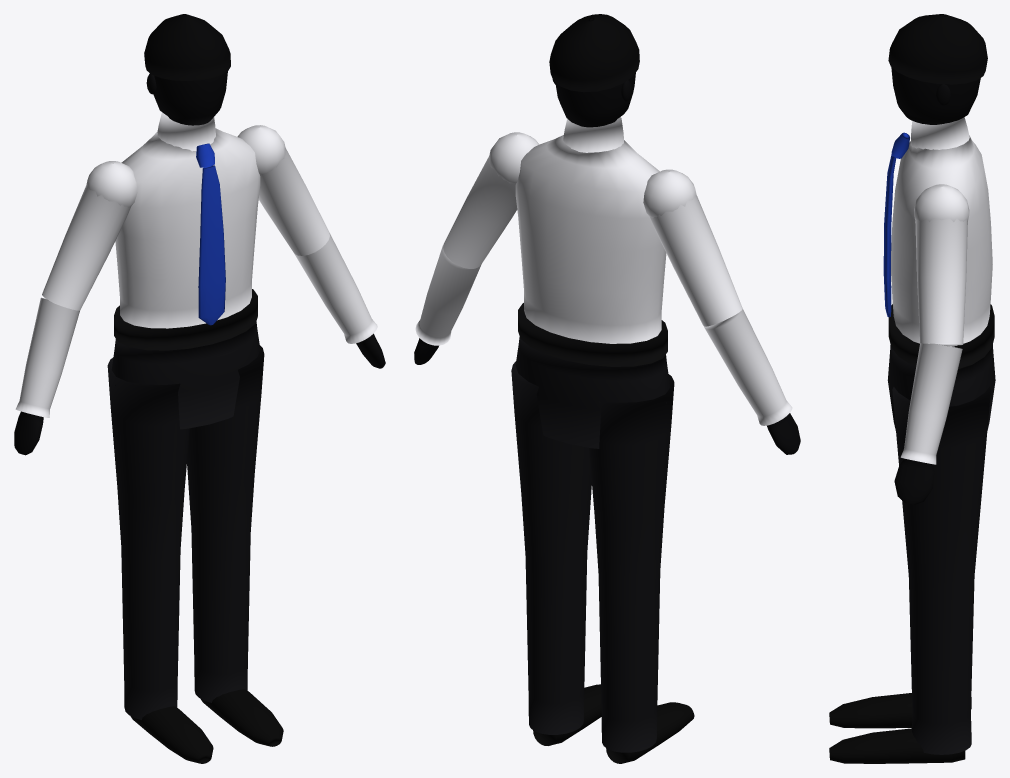
Rendered from ShadowOfficeWorker.obj.
3 renders of one model, left to right at view 1: azimuth 30°, elevation 25°; view 2: azimuth 150°, elevation 25°; view 3: azimuth 270°, elevation 25°, orthographic. The views are drawn at different scales.
Visible parts, largest first — view 1: Pants_Leg_L, Shirt_Torso, Pants_Leg_R, Shirt_Sleeve_L, Shirt_Sleeve_R, Pants_Hip, Hair, Tie, Belt, Head, Shoe_R, Shoe_L (+2 smaller); view 2: Shirt_Torso, Pants_Leg_L, Pants_Leg_R, Shirt_Sleeve_L, Shirt_Sleeve_R, Pants_Hip, Hair, Belt, Head, Collar, Shoe_L, Shoe_R (+1 smaller); view 3: Pants_Leg_R, Shirt_Sleeve_R, Shirt_Torso, Hair, Shoe_R, Head, Pants_Hip, Shoe_L, Belt, Tie, Collar, Hand_R.
Part boxes in pixels (x1,y1,x2,y2): Pants_Leg_L: (107,357,189,719); Shirt_Torso: (115,128,260,328); Pants_Leg_R: (187,345,264,702); Shirt_Sleeve_L: (15,161,137,417); Shirt_Sleeve_R: (237,125,377,343); Pants_Hip: (111,321,260,429); Hair: (144,14,230,80); Tie: (196,143,225,325); Belt: (114,289,257,350); Head: (149,71,227,125); Shoe_R: (201,689,283,746); Shoe_L: (130,706,213,763); Shirt_Torso: (515,135,666,343); Pants_Leg_L: (589,374,674,752); Pants_Leg_R: (511,361,591,734); Shirt_Sleeve_L: (643,169,792,425); Shirt_Sleeve_R: (415,132,539,345); Pants_Hip: (515,337,670,448); Hair: (549,14,639,92); Belt: (518,303,667,366); Head: (555,72,635,127); Collar: (563,117,623,152); Shoe_L: (606,702,694,763); Shoe_R: (533,684,601,745); Pants_Leg_R: (892,387,990,754); Shirt_Sleeve_R: (900,184,969,464); Shirt_Torso: (891,135,992,346); Hair: (888,14,987,84); Shoe_R: (829,728,965,763); Head: (891,67,980,123); Pants_Hip: (887,344,995,430); Shoe_L: (829,693,912,728); Belt: (888,304,994,369); Tie: (883,132,909,317); Collar: (911,117,969,149); Hand_R: (894,458,934,504).
Size of the model in its own units: 0.9567 by 1.76 by 0.3638.
